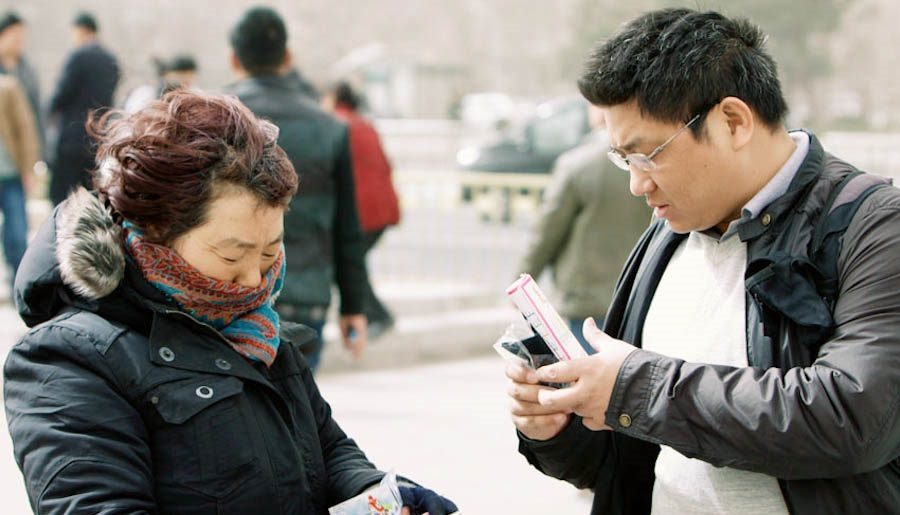face_mask: (608, 86, 724, 236), (165, 197, 286, 324)
